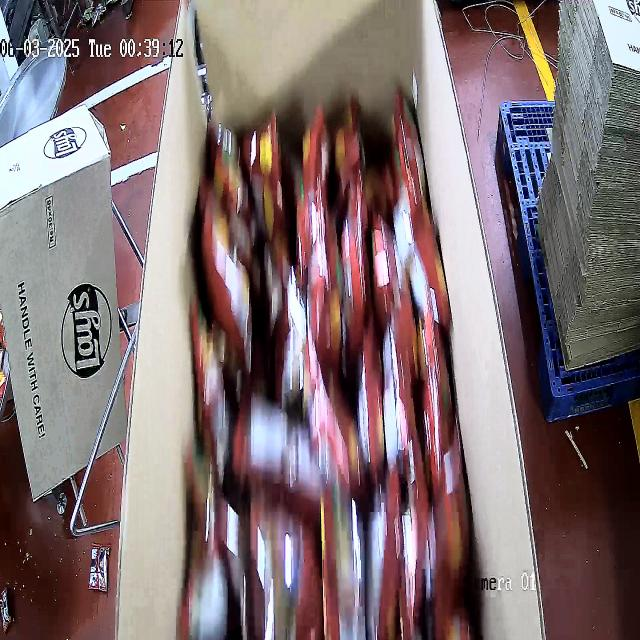MASALA: (184, 84, 475, 638)
